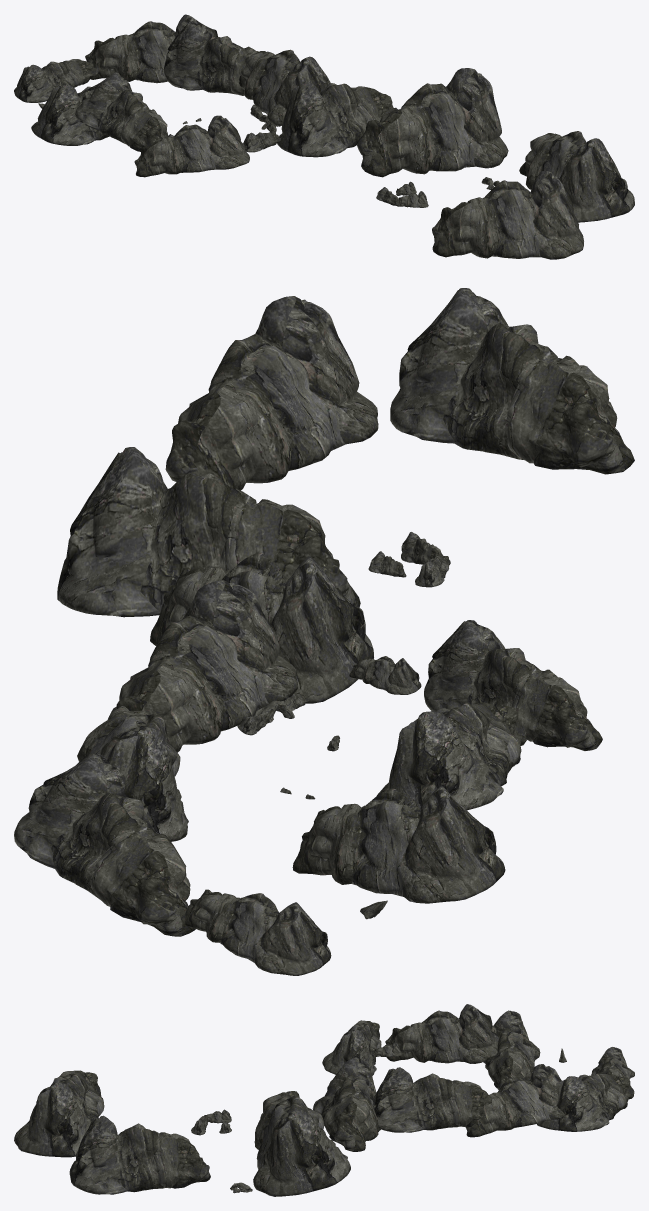
The model's file is Mountains.fbx.
3 views of the same model, one above another, from view 1: azimuth 30°, elevation 25°; view 2: azimuth 150°, elevation 25°; view 3: azimuth 270°, elevation 25° (orthographic). The views are drawn at different scales.
Parts seen in each view (by area): view 1: Mountains_v1_p3_2__4_, Mountains, Mountains_v1_p3_2__5_, Mountains_v1_p3_2__3_, Mountains_v1_p3_2__14_, Mountains_v1_p3_2__15_, Mountains_v1_p3_2__11_, Mountains_v1_p3_2__16_, Mountains_v1_p3_2__17_, Mountains_v1_p3_2__18_, Mountains_v1_p3_2__1_, Mountains_v1_p3_2__8_; view 2: Mountains, Mountains_v1_p3_2__5_, Mountains_v1_p3_2__4_, Mountains_v1_p3_2__11_, Mountains_v1_p3_2__16_, Mountains_v1_p3_2__17_, Mountains_v1_p3_2__3_, Mountains_v1_p3_2__15_, Mountains_v1_p3_2__18_, Mountains_v1_p3_2__14_, Mountains_v1_p3_2__1_; view 3: Mountains, Mountains_v1_p3_2__4_, Mountains_v1_p3_2__16_, Mountains_v1_p3_2__5_, Mountains_v1_p3_2__15_, Mountains_v1_p3_2__3_, Mountains_v1_p3_2__14_, Mountains_v1_p3_2__11_, Mountains_v1_p3_2__17_, Mountains_v1_p3_2__18_.
Part boxes in pixels (x1=…): Mountains_v1_p3_2__4_: x1=357, y1=68, x2=508, y2=177; Mountains: x1=38, y1=103, x2=634, y2=222; Mountains_v1_p3_2__5_: x1=432, y1=171, x2=583, y2=259; Mountains_v1_p3_2__3_: x1=277, y1=81, x2=397, y2=157; Mountains_v1_p3_2__14_: x1=163, y1=21, x2=258, y2=95; Mountains_v1_p3_2__15_: x1=75, y1=72, x2=168, y2=151; Mountains_v1_p3_2__11_: x1=85, y1=14, x2=217, y2=83; Mountains_v1_p3_2__16_: x1=239, y1=49, x2=330, y2=125; Mountains_v1_p3_2__17_: x1=31, y1=84, x2=109, y2=145; Mountains_v1_p3_2__18_: x1=14, y1=59, x2=98, y2=102; Mountains_v1_p3_2__1_: x1=243, y1=132, x2=280, y2=152; Mountains_v1_p3_2__8_: x1=397, y1=191, x2=428, y2=207; Mountains: x1=165, y1=296, x2=602, y2=919; Mountains_v1_p3_2__5_: x1=390, y1=288, x2=634, y2=474; Mountains_v1_p3_2__4_: x1=57, y1=447, x2=360, y2=617; Mountains_v1_p3_2__11_: x1=14, y1=753, x2=195, y2=936; Mountains_v1_p3_2__16_: x1=116, y1=580, x2=297, y2=752; Mountains_v1_p3_2__17_: x1=292, y1=786, x2=505, y2=903; Mountains_v1_p3_2__3_: x1=150, y1=552, x2=373, y2=703; Mountains_v1_p3_2__15_: x1=376, y1=702, x2=526, y2=810; Mountains_v1_p3_2__18_: x1=184, y1=889, x2=331, y2=975; Mountains_v1_p3_2__14_: x1=76, y1=706, x2=188, y2=841; Mountains_v1_p3_2__1_: x1=349, y1=656, x2=421, y2=694; Mountains: x1=69, y1=1020, x2=566, y2=1194; Mountains_v1_p3_2__4_: x1=253, y1=1091, x2=350, y2=1196; Mountains_v1_p3_2__16_: x1=372, y1=1067, x2=491, y2=1132; Mountains_v1_p3_2__5_: x1=14, y1=1070, x2=104, y2=1157; Mountains_v1_p3_2__15_: x1=385, y1=1004, x2=498, y2=1063; Mountains_v1_p3_2__3_: x1=312, y1=1057, x2=380, y2=1151; Mountains_v1_p3_2__14_: x1=465, y1=1064, x2=564, y2=1137; Mountains_v1_p3_2__11_: x1=537, y1=1073, x2=634, y2=1131; Mountains_v1_p3_2__17_: x1=483, y1=1010, x2=540, y2=1089; Mountains_v1_p3_2__18_: x1=591, y1=1047, x2=634, y2=1079.
Size of the model in its own units: 72034 by 18202 by 114338.
